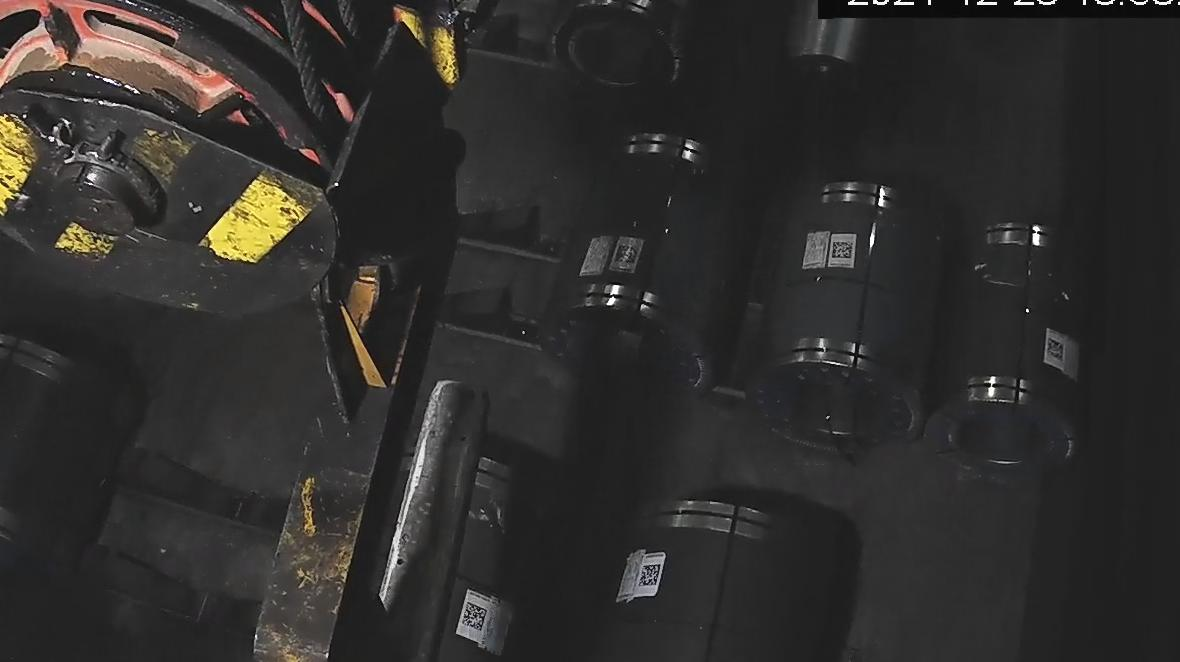data matrix: (459, 598, 491, 636), (636, 562, 664, 591), (613, 242, 641, 269), (1044, 336, 1068, 365), (830, 239, 857, 263)
